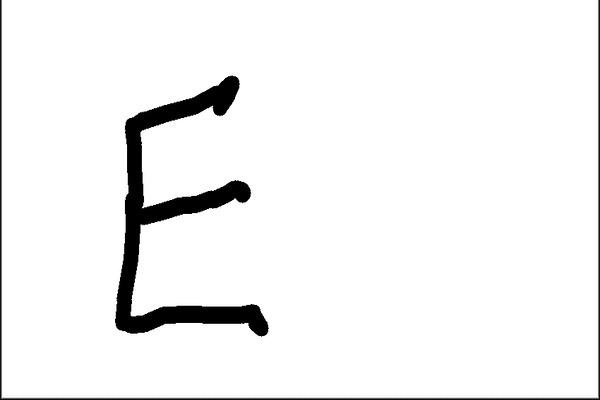E: (106, 71, 279, 340)
